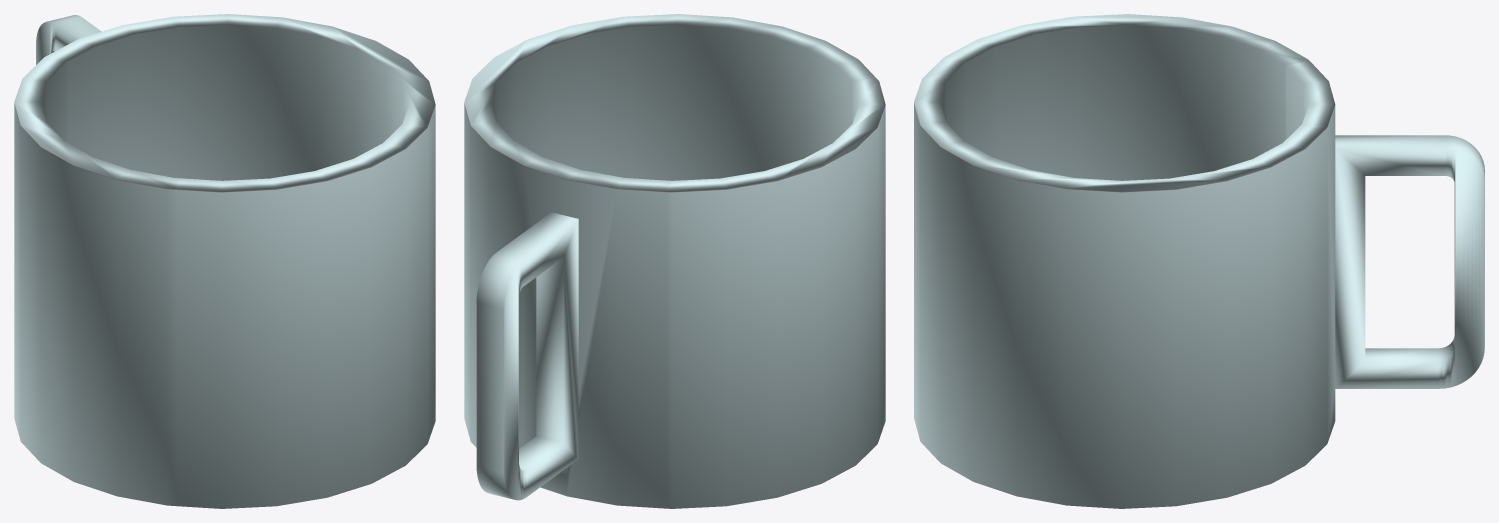
The picture shows the model from 3 angles, left to right: view 1: azimuth 30°, elevation 25°; view 2: azimuth 150°, elevation 25°; view 3: azimuth 270°, elevation 25°; orthographic projection.
Visible parts, largest first — view 1: mesh1_mesh1-geometry_1, mesh1_mesh1-geometry; view 2: mesh1_mesh1-geometry_1, mesh1_mesh1-geometry; view 3: mesh1_mesh1-geometry_1, mesh1_mesh1-geometry.
Part boxes in pixels (x1=…): mesh1_mesh1-geometry_1: x1=14, y1=14, x2=435, y2=508; mesh1_mesh1-geometry: x1=14, y1=102, x2=435, y2=192; mesh1_mesh1-geometry_1: x1=464, y1=14, x2=885, y2=508; mesh1_mesh1-geometry: x1=464, y1=102, x2=885, y2=192; mesh1_mesh1-geometry_1: x1=914, y1=14, x2=1484, y2=508; mesh1_mesh1-geometry: x1=914, y1=102, x2=1335, y2=192.
Size of the model in its own units: 0.5326 by 0.4421 by 0.7217.
